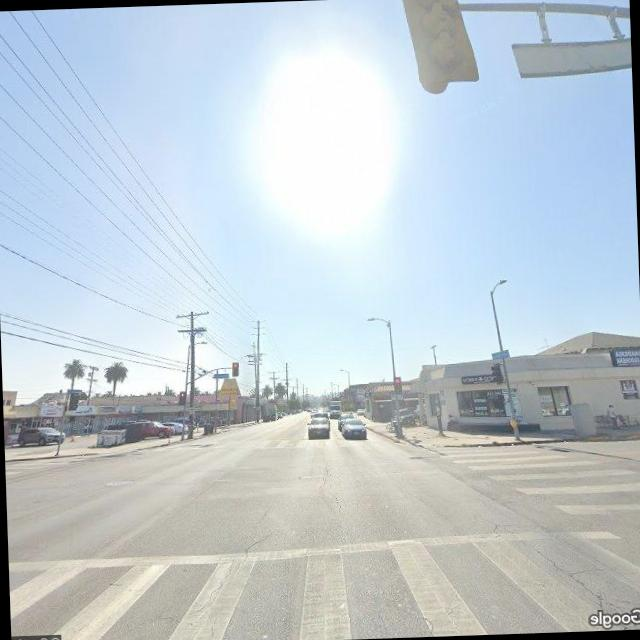pothole: (516, 533, 620, 612), (316, 457, 347, 515), (240, 531, 278, 556)
